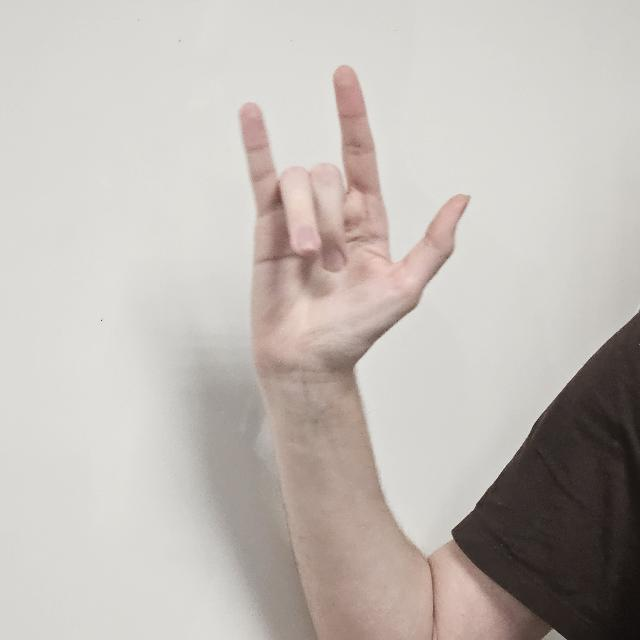Cima: (238, 60, 468, 388)
